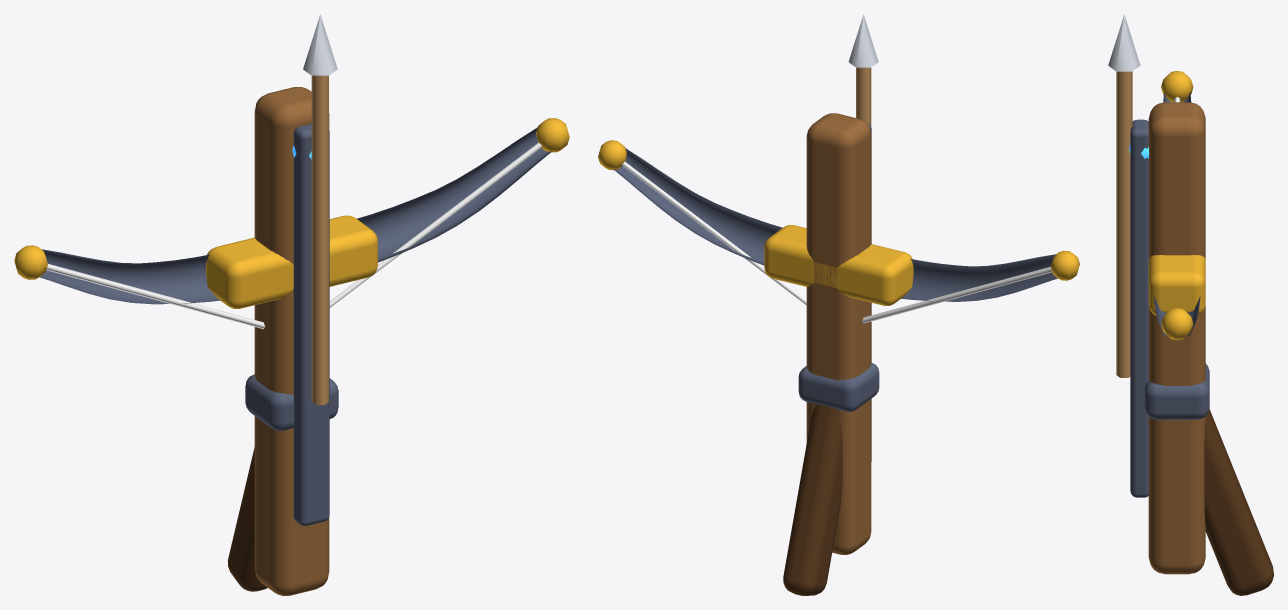
File: crossbow.glb
3 views of the same model, side by side, from view 1: azimuth 30°, elevation 25°; view 2: azimuth 150°, elevation 25°; view 3: azimuth 270°, elevation 25° (orthographic). The views are drawn at different scales.
Parts seen in each view (by area): view 1: Stock, Prod, Rail, ProdMount, BoltShaft, Grip, Trigger, String-1, String1, BoltHead, ProdTip-1, ProdTip1; view 2: Stock, Prod, Grip, ProdMount, Trigger, String-1, String1, BoltHead, BoltShaft, ProdTip-1, ProdTip1; view 3: Stock, Rail, Grip, BoltShaft, ProdMount, Trigger, BoltHead, ProdTip1, ProdTip-1, Prod.
Part boxes in pixels (x1=…): Stock: x1=254, y1=87, x2=329, y2=595; Prod: x1=39, y1=127, x2=552, y2=304; Rail: x1=293, y1=123, x2=329, y2=525; ProdMount: x1=206, y1=215, x2=377, y2=308; BoltShaft: x1=311, y1=75, x2=328, y2=404; Grip: x1=227, y1=447, x2=267, y2=591; Trigger: x1=245, y1=374, x2=338, y2=430; String-1: x1=46, y1=264, x2=265, y2=329; String1: x1=329, y1=142, x2=541, y2=307; BoltHead: x1=303, y1=14, x2=337, y2=75; ProdTip-1: x1=14, y1=245, x2=47, y2=279; ProdTip1: x1=536, y1=118, x2=569, y2=152; Stock: x1=806, y1=113, x2=871, y2=554; Prod: x1=613, y1=148, x2=1057, y2=301; Grip: x1=783, y1=404, x2=842, y2=595; ProdMount: x1=764, y1=225, x2=913, y2=305; Trigger: x1=798, y1=362, x2=879, y2=411; String-1: x1=862, y1=266, x2=1051, y2=323; String1: x1=622, y1=162, x2=806, y2=305; BoltHead: x1=848, y1=14, x2=878, y2=67; BoltShaft: x1=856, y1=67, x2=871, y2=125; ProdTip-1: x1=1050, y1=250, x2=1079, y2=280; ProdTip1: x1=598, y1=140, x2=627, y2=170; Stock: x1=1148, y1=102, x2=1205, y2=574; Rail: x1=1130, y1=119, x2=1148, y2=497; Grip: x1=1204, y1=409, x2=1273, y2=595; BoltShaft: x1=1116, y1=71, x2=1132, y2=377; ProdMount: x1=1148, y1=255, x2=1205, y2=315; Trigger: x1=1144, y1=363, x2=1209, y2=419; BoltHead: x1=1108, y1=14, x2=1140, y2=71; ProdTip1: x1=1161, y1=308, x2=1193, y2=340; ProdTip-1: x1=1161, y1=71, x2=1193, y2=102; Prod: x1=1154, y1=91, x2=1200, y2=336.
Bounding box in the file's own units: 0.73 × 0.7854 × 0.2038.
